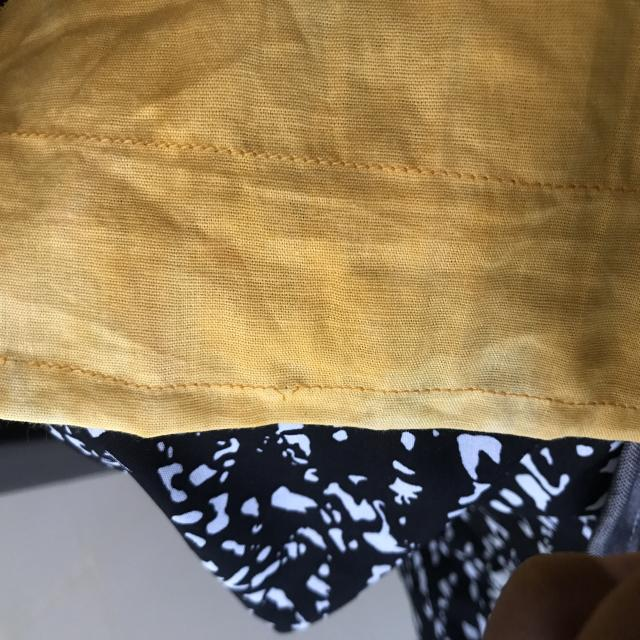broken: (267, 375, 318, 412)
